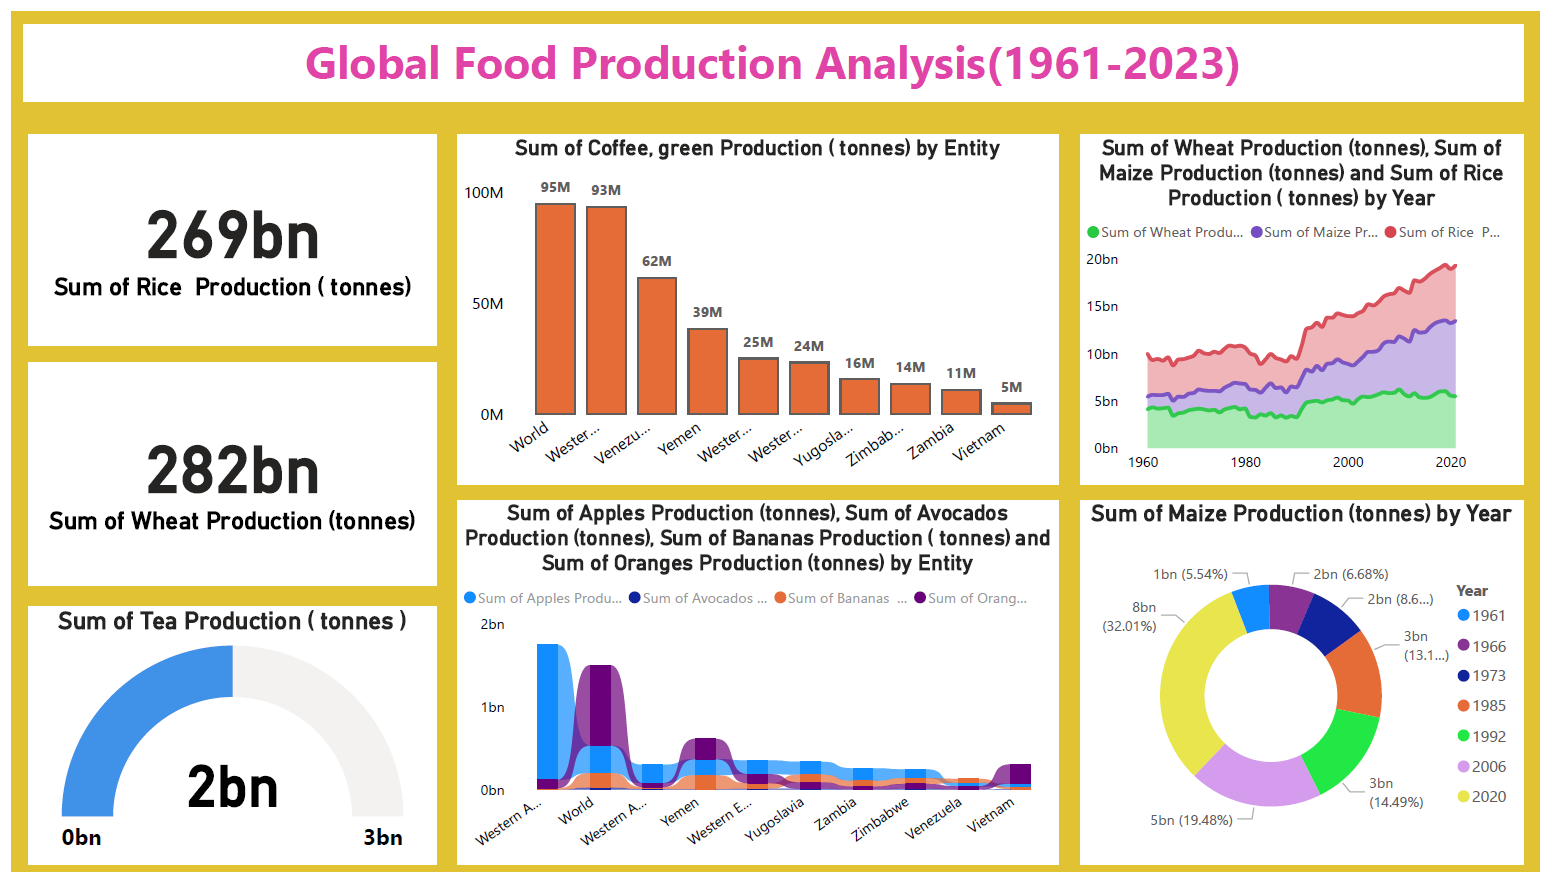

Layout of this report page (visuals, bound fields, positions):
{"tool":"powerbi","page":{"name":"Food Production Dashboard","canvas":[1280,720],"ordinal":0},"visuals":[{"type":"textbox","box":[9.7,10.9,1255.9,63.9],"z":0},{"type":"card","fields":{"Values":["Sum(world food production.Rice  Production ( tonnes))"]},"box":[14.5,102.5,341.4,177.3],"z":1000},{"type":"card","fields":{"Values":["Sum(world food production.Wheat Production (tonnes))"]},"box":[14.5,294.4,341.4,187],"z":2000},{"type":"gauge","fields":{"Y":["Sum(world food production.Tea  Production ( tonnes ))"]},"box":[14.5,498.3,341.4,216],"z":3000},{"type":"clusteredColumnChart","fields":{"Category":["world food production.Entity"],"Y":["Sum(world food production.Coffee, green Production ( tonnes))"]},"box":[372.8,102.5,504.3,293.2],"z":4000},{"type":"stackedAreaChart","fields":{"Category":["world food production.Year"],"Y":["Sum(world food production.Wheat Production (tonnes))","Sum(world food production.Maize Production (tonnes))","Sum(world food production.Rice  Production ( tonnes))"]},"box":[895.2,102.5,370.4,293.2],"z":5000},{"type":"ribbonChart","fields":{"Category":["world food production.Entity"],"Y":["Sum(world food production.Apples Production (tonnes))","Sum(world food production.Avocados Production (tonnes))","Sum(world food production.Bananas  Production ( tonnes))","Sum(world food production.Oranges  Production (tonnes))"]},"box":[372.8,409,504.3,305.2],"z":5001},{"type":"donutChart","fields":{"Y":["Sum(world food production.Maize Production (tonnes))"],"Series":["world food production.Year"]},"box":[895.2,409,370.4,305.2],"z":5002}]}

Visuals, with their boxes in screenshot pixels (x1, y1, x2, y2), scaled from the page's 1280x720 canvas onto the 1560x887 screenshot:
textbox: [12,13,1542,92]
card - Sum(world food production.Rice  Production ( tonnes)): [18,126,434,345]
card - Sum(world food production.Wheat Production (tonnes)): [18,363,434,593]
gauge - Sum(world food production.Tea  Production ( tonnes )): [18,614,434,880]
clusteredColumnChart - world food production.Entity x Sum(world food production.Coffee, green Production ( tonnes)): [454,126,1069,487]
stackedAreaChart - world food production.Year x Sum(world food production.Wheat Production (tonnes)): [1091,126,1542,487]
ribbonChart - world food production.Entity x Sum(world food production.Apples Production (tonnes)): [454,504,1069,880]
donutChart - Sum(world food production.Maize Production (tonnes)) x world food production.Year: [1091,504,1542,880]
